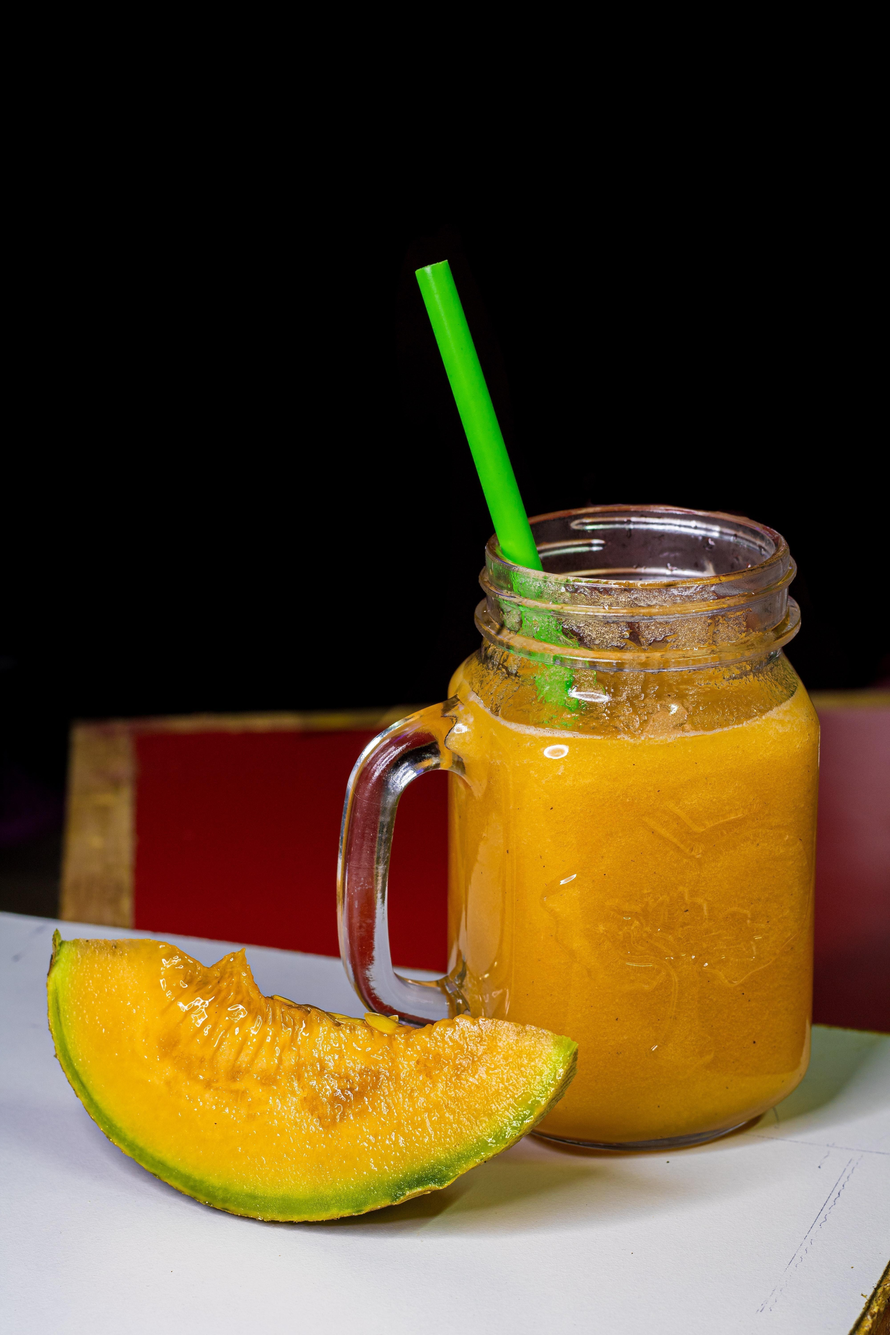glass-mug: (326, 492, 827, 1163)
